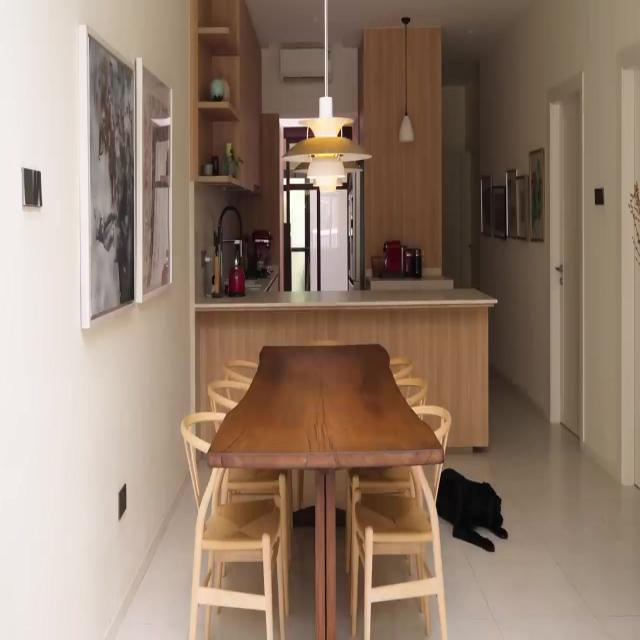door: (555, 98, 584, 435)
obstacle: (206, 342, 444, 638), (189, 0, 262, 195)
